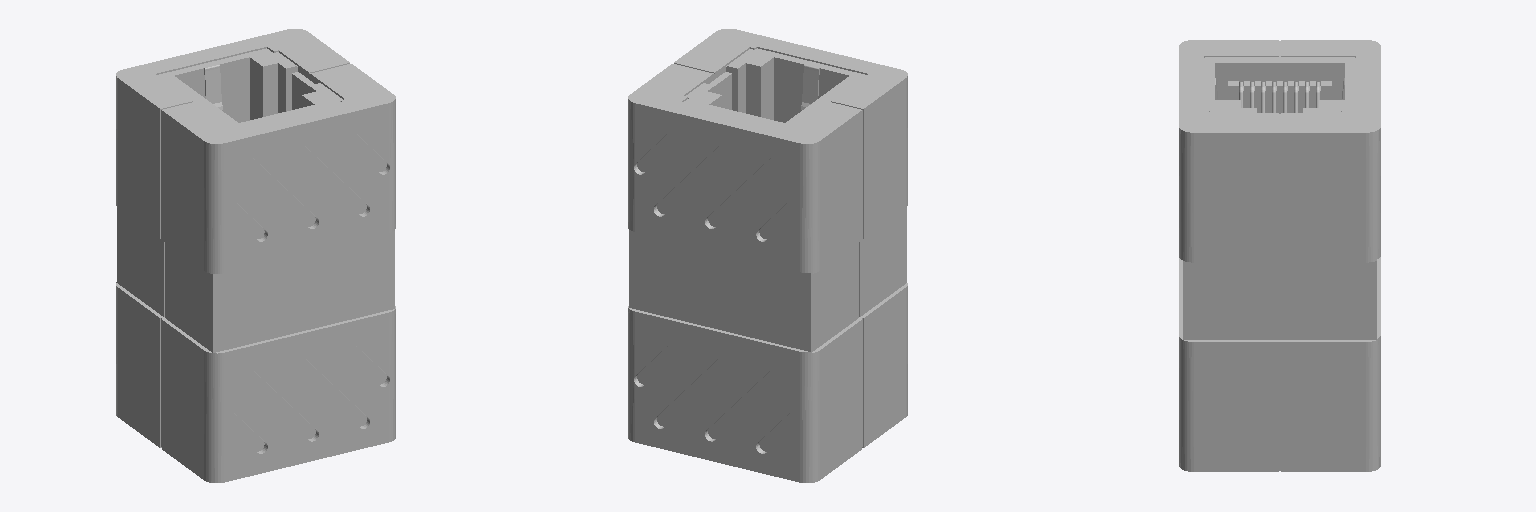
File: Ethernet Coupler.obj
3 renders of one model, left to right at view 1: azimuth 30°, elevation 25°; view 2: azimuth 150°, elevation 25°; view 3: azimuth 270°, elevation 25°, orthographic.
Bounding box in the file's own units: 25.45 × 43.43 × 23.42.